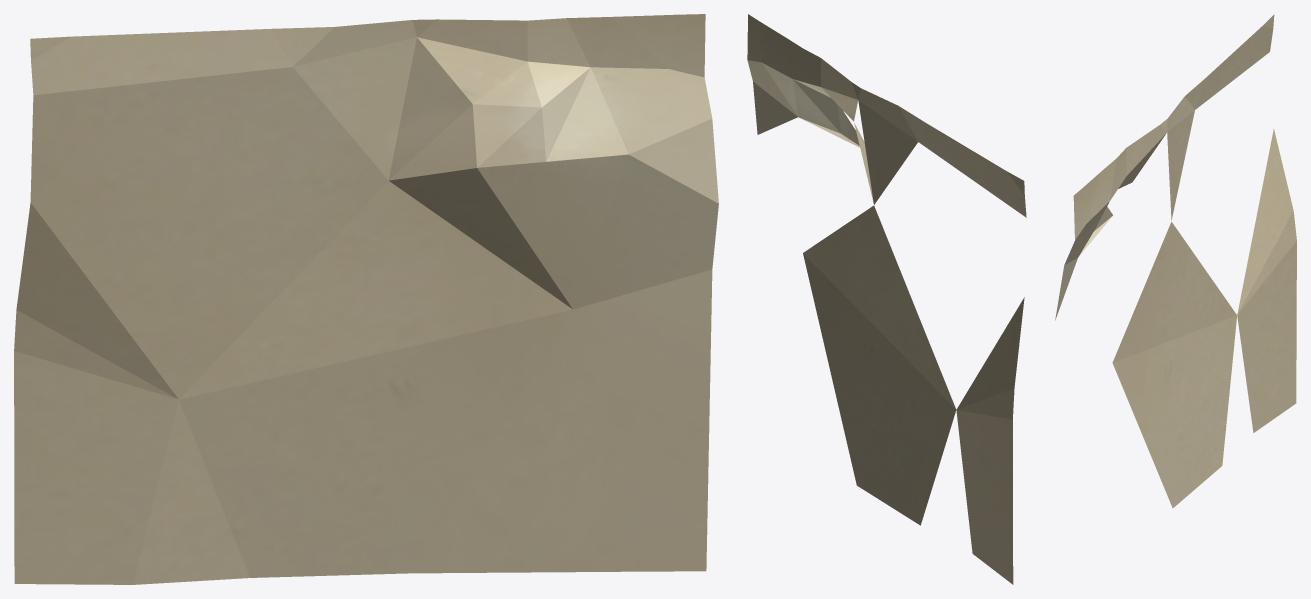
3 renders of one model, left to right at view 1: azimuth 30°, elevation 25°; view 2: azimuth 150°, elevation 25°; view 3: azimuth 270°, elevation 25°, orthographic. The views are drawn at different scales.
Size of the model in its own units: 0.8374 by 0.8373 by 0.4716.
Materials: 3 (3 with a texture image).
